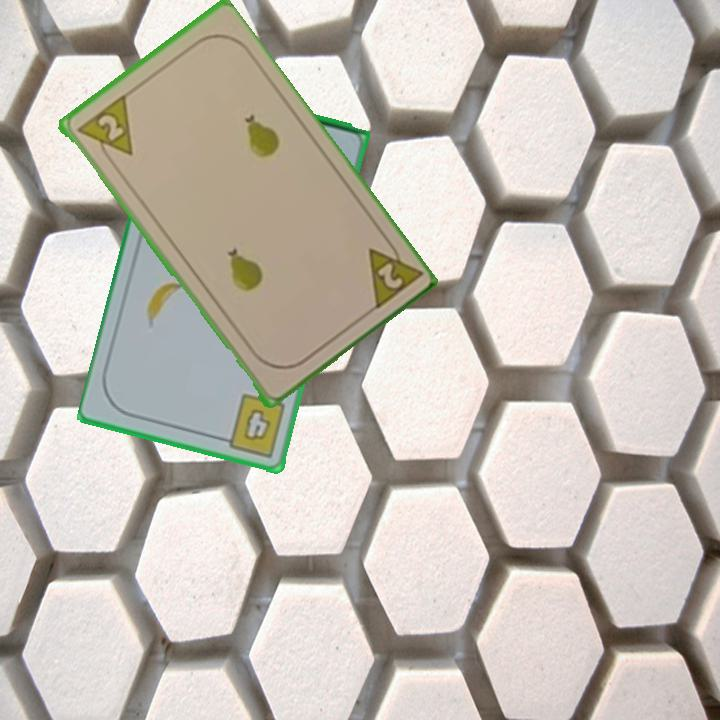2p: (363, 232, 423, 314), (73, 92, 136, 169)
4b: (216, 390, 289, 461)
